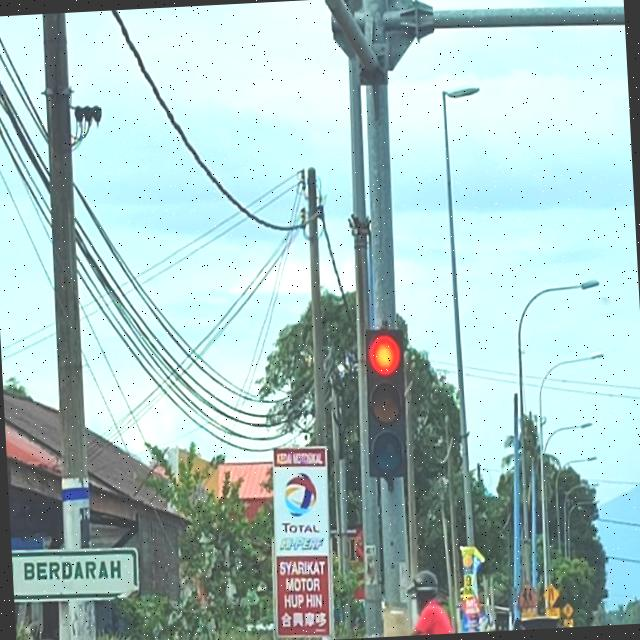red_light: (361, 328, 411, 478)
